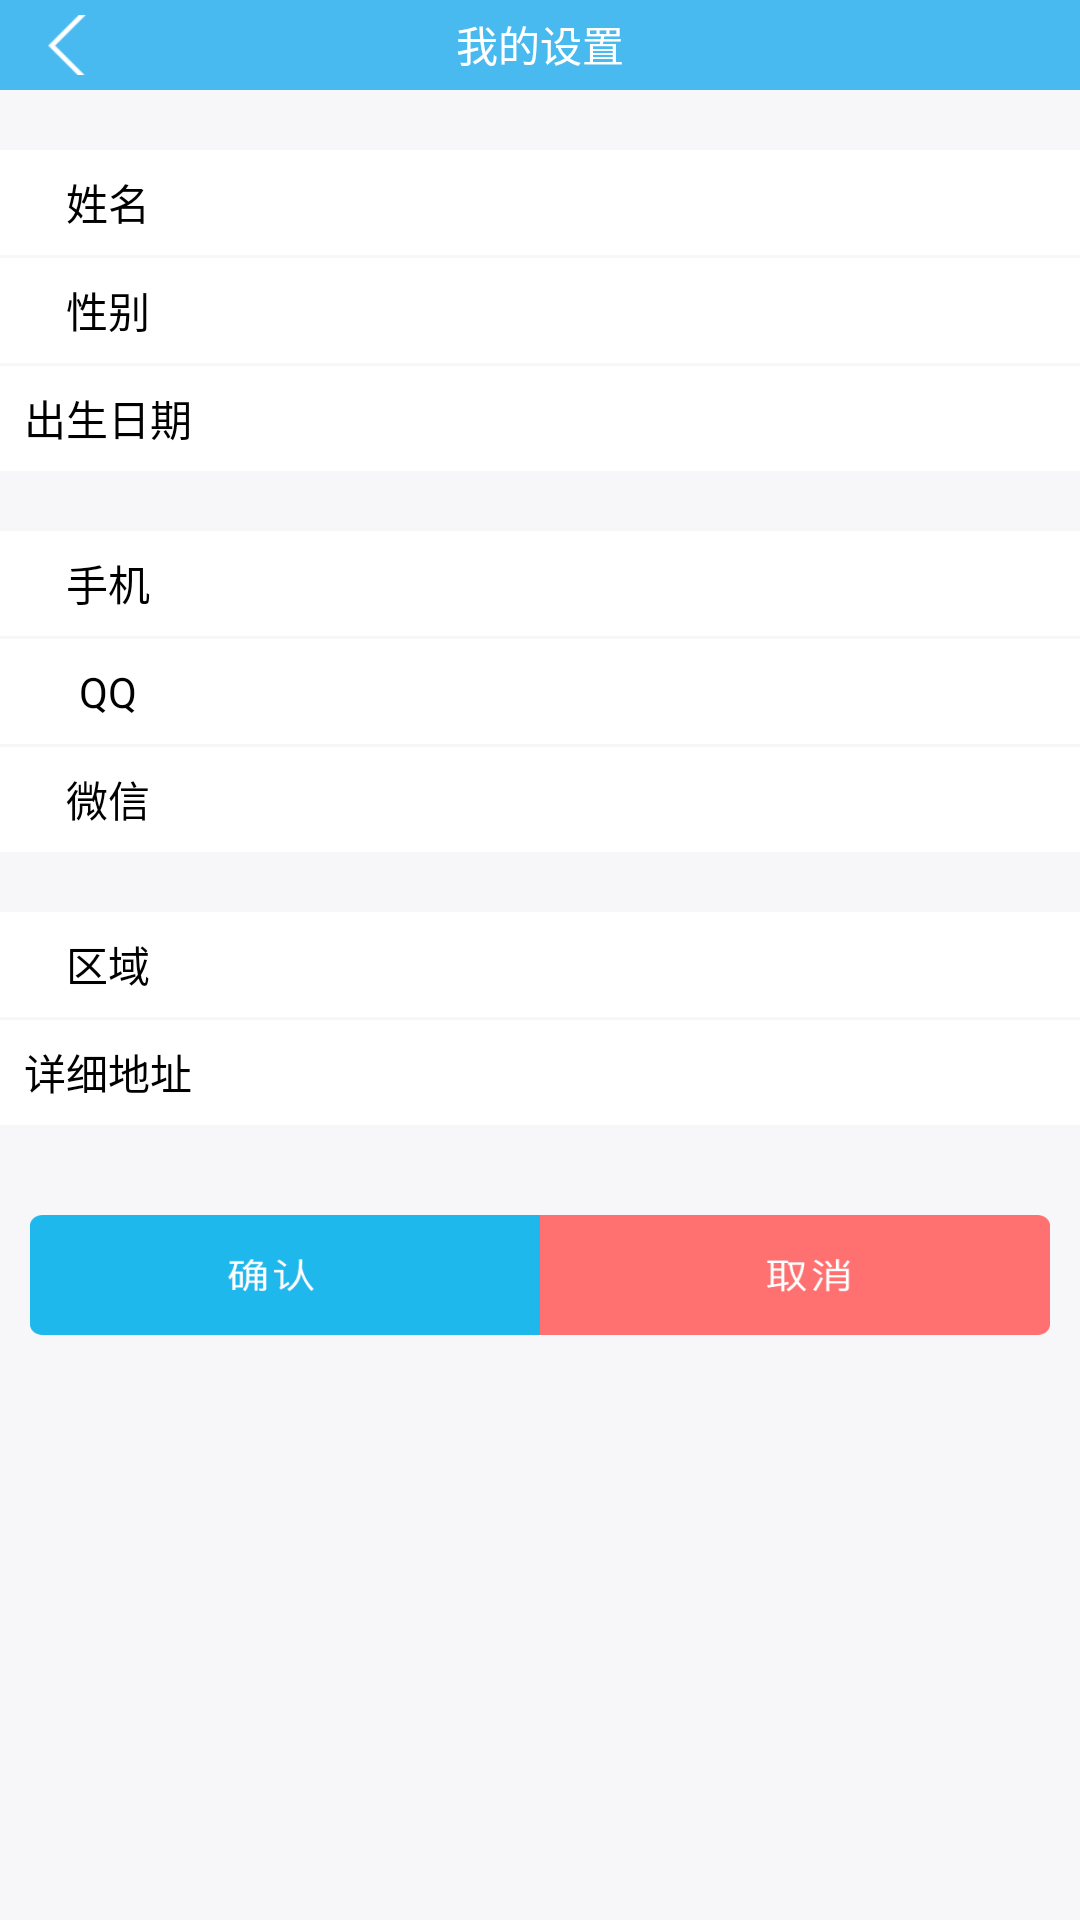

Screen size 1080px×1920px. Icon name, then its box in pixels as (x1, y1, x2, y2):
jiantou: (48, 15, 86, 75)
